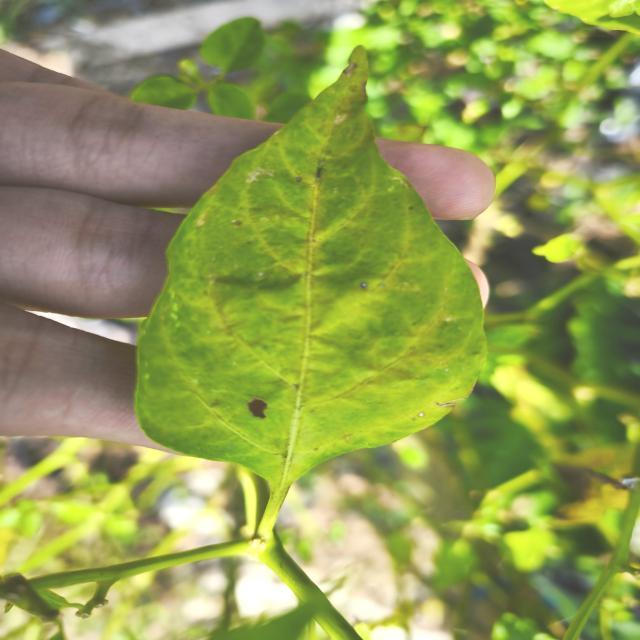Virus Kuning: (132, 46, 494, 475)
